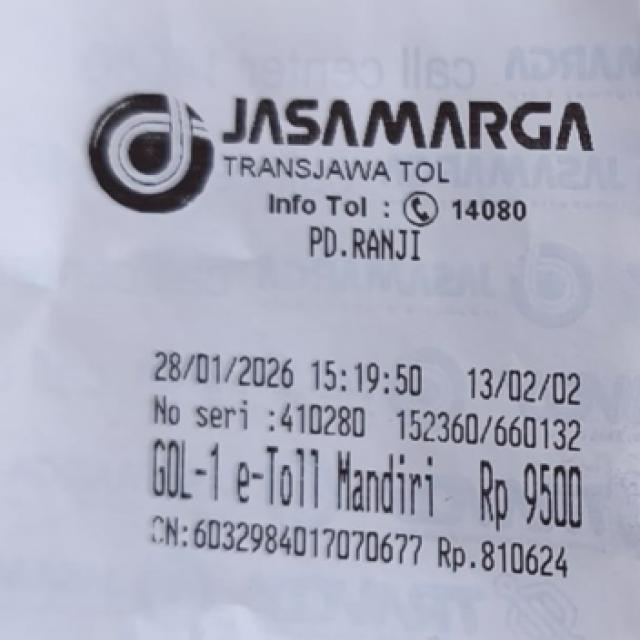date: (143, 347, 433, 398)
store: (222, 78, 597, 190)
total: (465, 455, 587, 531)
